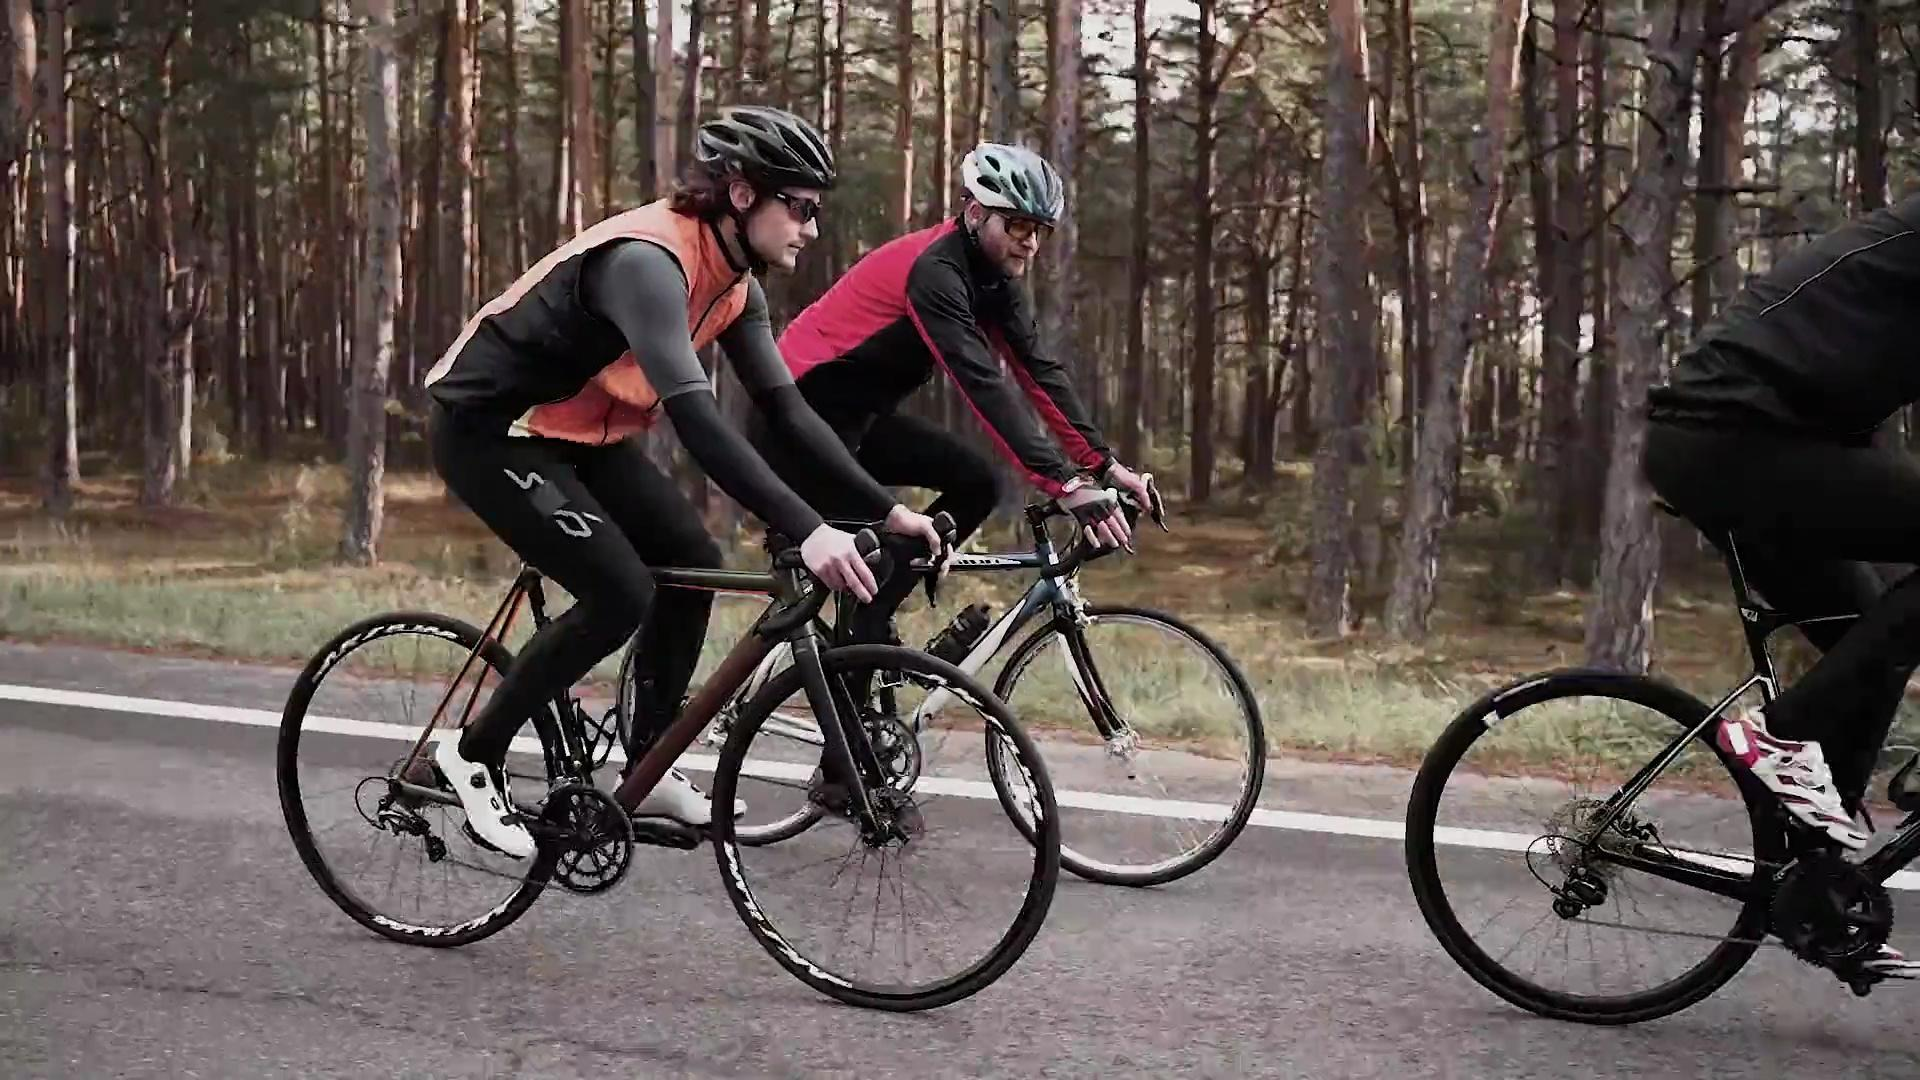cyclist: (263, 82, 1059, 1031), (1367, 130, 1919, 1079)
